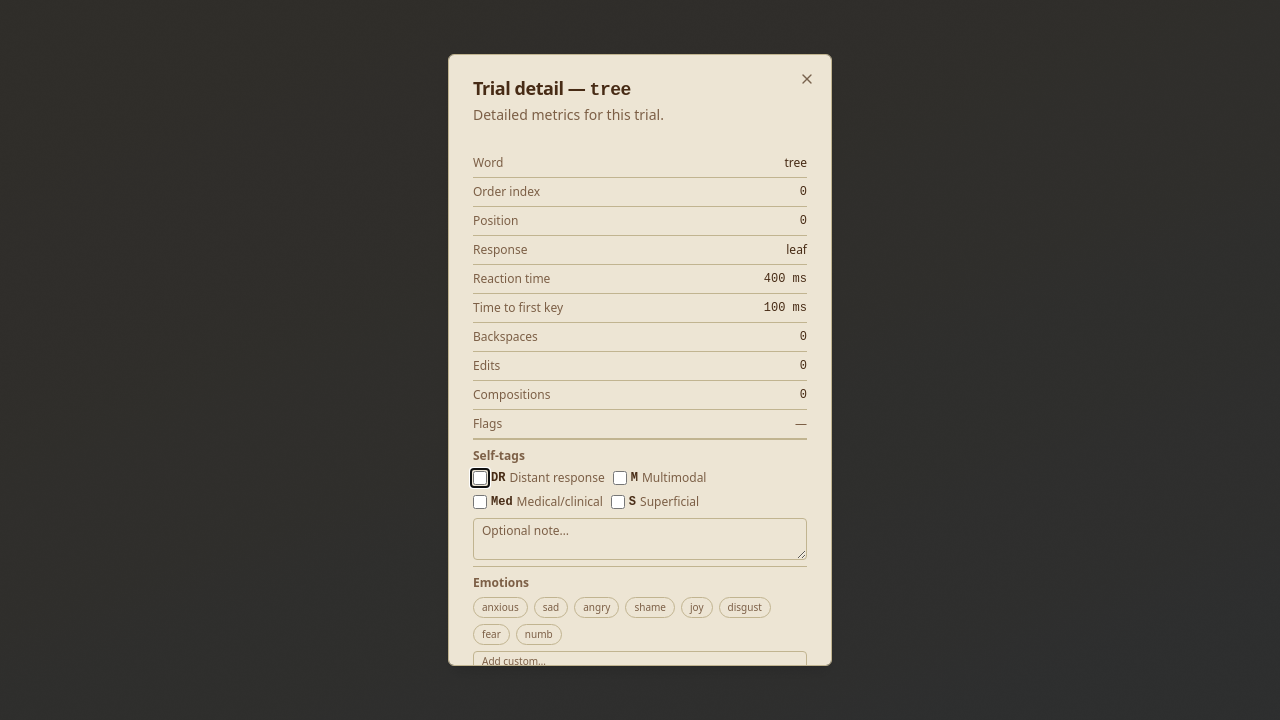
TrialDetailPanel self-tags › toggling DR tag persists to storage
Step 1. Click the checkbox with test id "self-tag-DR" → (480, 478), box [473, 471, 487, 485]
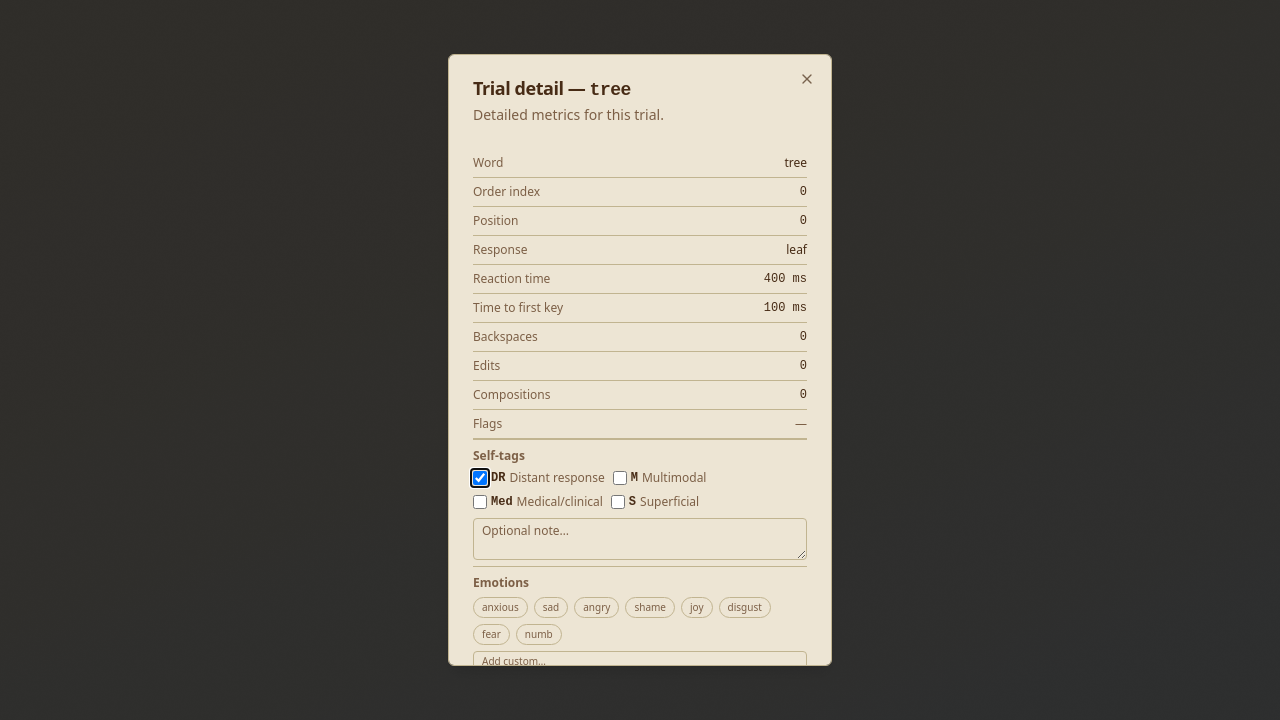
Expected: the checkbox with test id "self-tag-DR" is checked, [473, 471, 487, 485]
